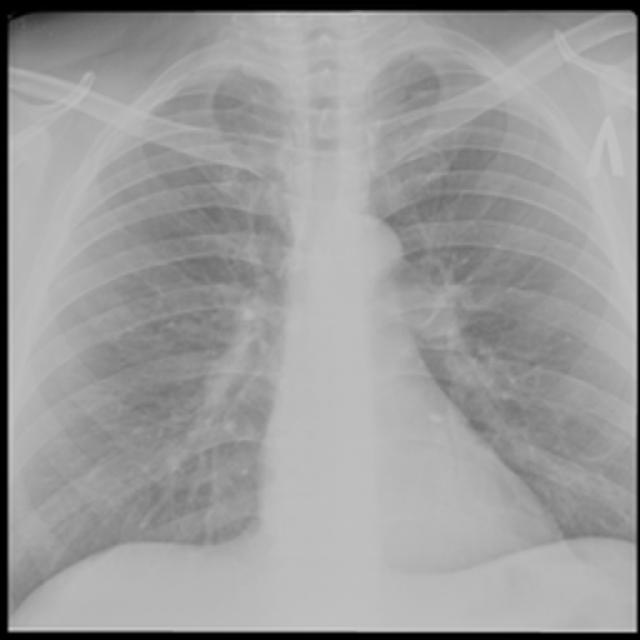abnormalities: (420, 256, 544, 455), (154, 291, 268, 489)
diaphragm: (11, 538, 635, 628)
heart: (259, 215, 578, 599)
left_lobe: (359, 26, 635, 564)
right_lobe: (13, 42, 299, 609)
